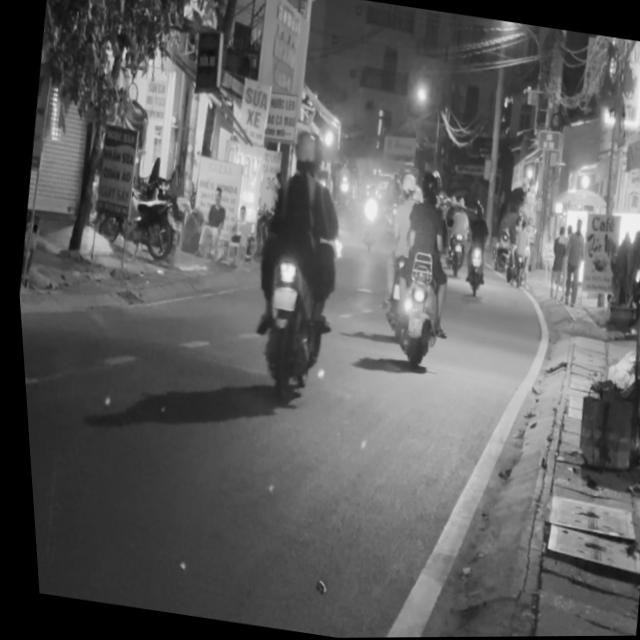helmet: (288, 131, 320, 174)
licenseplate: (224, 121, 363, 414)
nohelmet: (267, 285, 294, 311)
